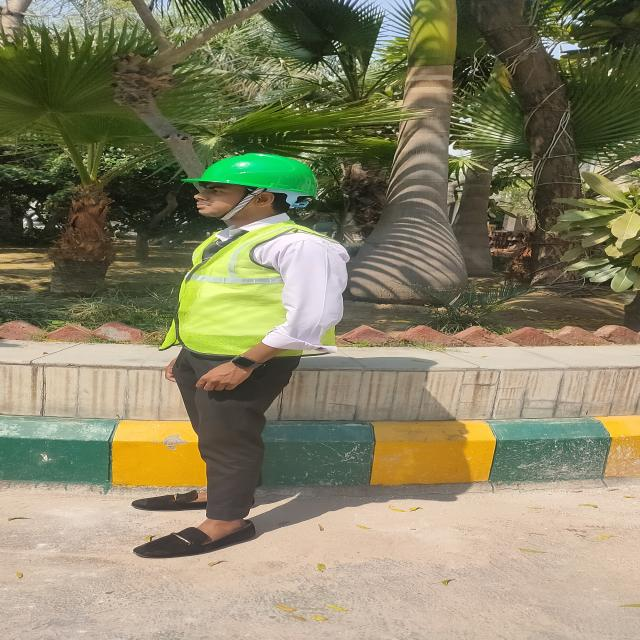safe: (160, 153, 346, 558)
